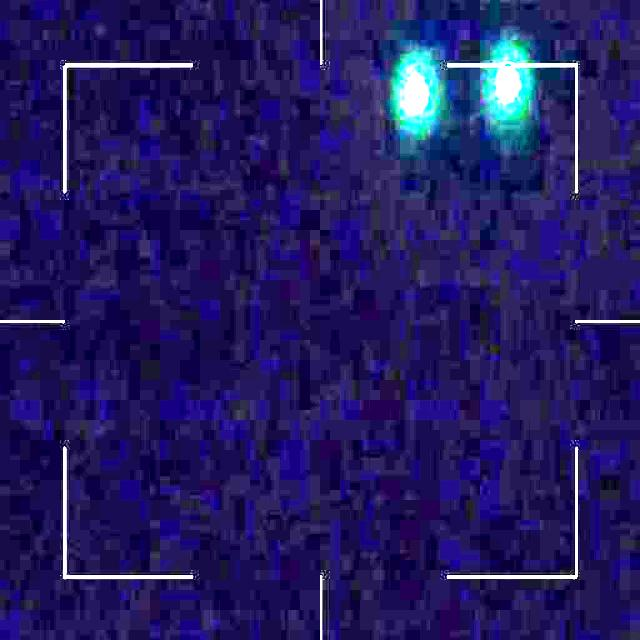bird: (398, 42, 525, 124)
